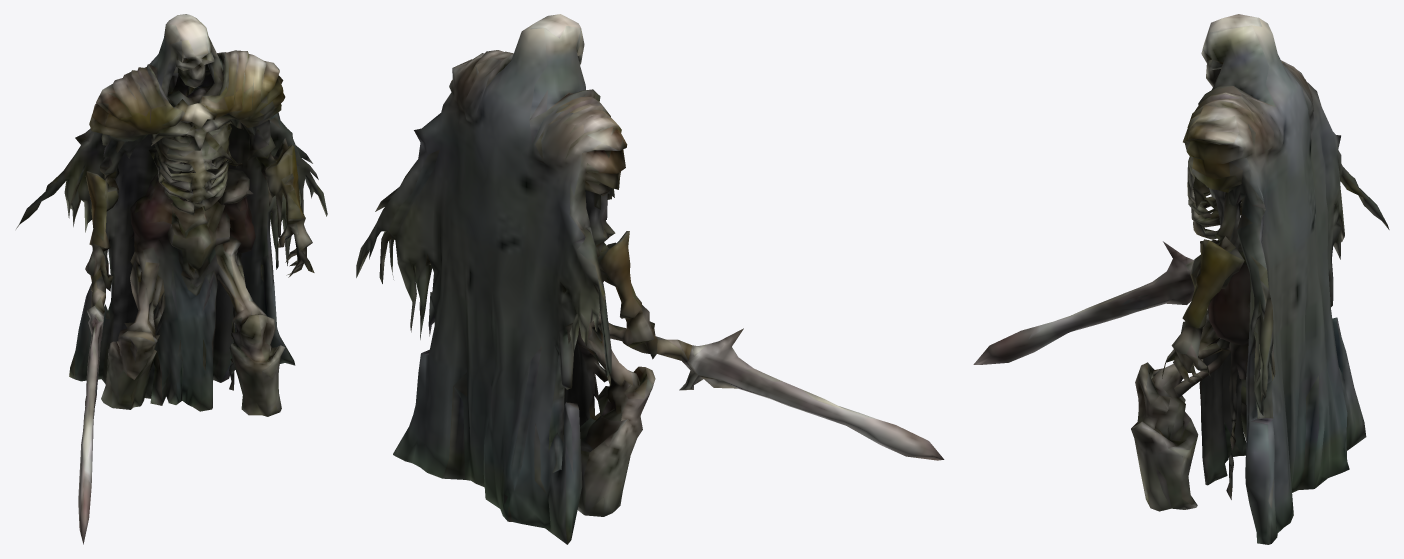
Rendered from Skeletal Champ_final.glb.
The picture shows the model from 3 angles, left to right: view 1: azimuth 30°, elevation 25°; view 2: azimuth 150°, elevation 25°; view 3: azimuth 270°, elevation 25°; orthographic projection. The views are drawn at different scales.
Visible parts, largest first — view 1: Mesh1.0; view 2: Mesh1.0; view 3: Mesh1.0.
Part boxes in pixels (x1,y1,x2,y2): Mesh1.0: [16, 14, 327, 544]; Mesh1.0: [356, 14, 944, 544]; Mesh1.0: [973, 14, 1389, 544].
Size of the model in its own units: 1.83 by 1.88 by 1.5.
Materials: 1 (1 with a texture image).
